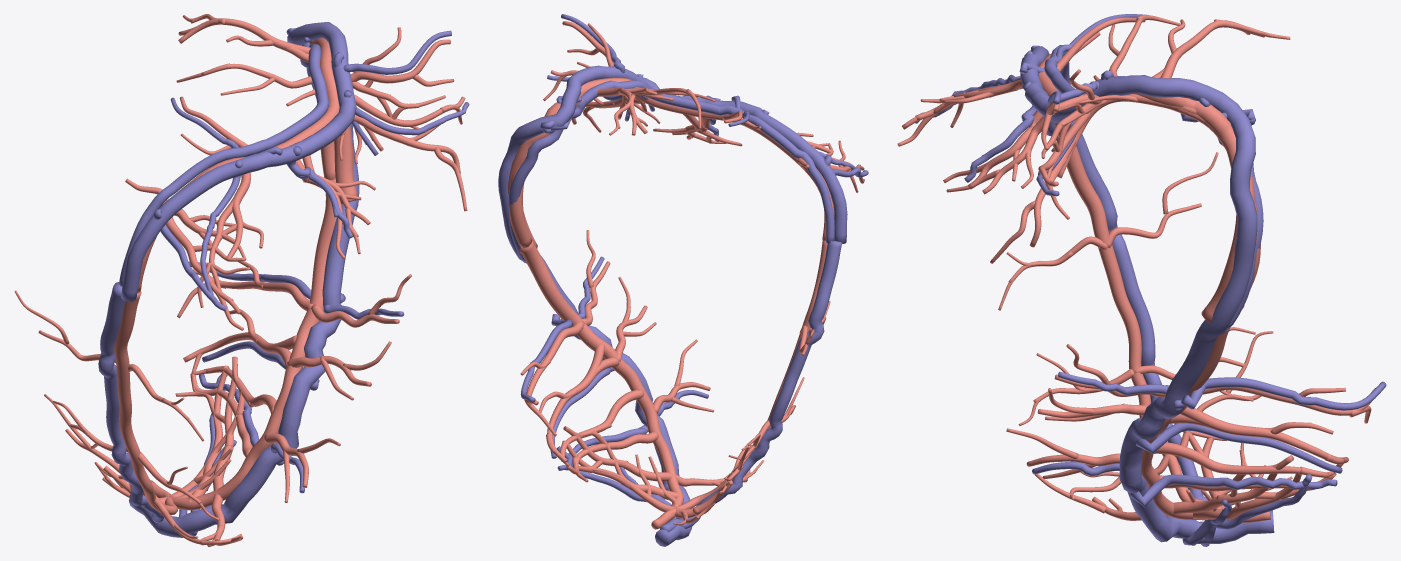
Rendered from vessels_26.glb.
3 views of the same model, side by side, from view 1: azimuth 30°, elevation 25°; view 2: azimuth 150°, elevation 25°; view 3: azimuth 270°, elevation 25° (orthographic). The views are drawn at different scales.
Visible parts, largest first — view 1: Renderer Node; view 2: Renderer Node; view 3: Renderer Node.
Part boxes in pixels (x1,y1,x2,y2): Renderer Node: (14, 14, 469, 546); Renderer Node: (498, 14, 868, 546); Renderer Node: (897, 14, 1386, 546).
Size of the model in its own units: 93.76 by 120 by 94.13.
